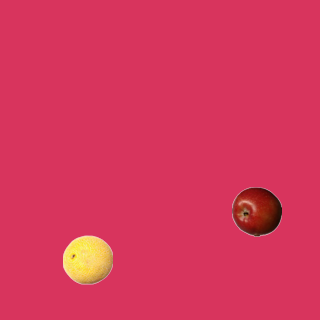Apple Braeburn: (231, 186, 281, 236)
Cantaloupe 1: (62, 234, 112, 284)
